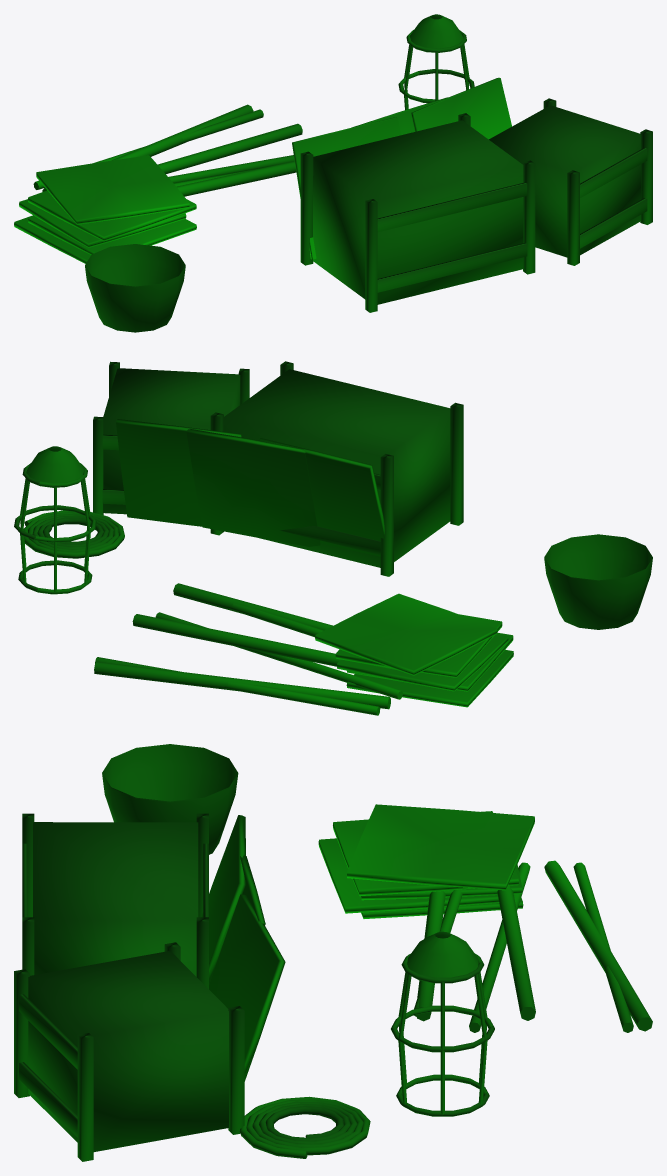
The model's file is salvage_heap.glb.
3 views of the same model, one above another, from view 1: azimuth 30°, elevation 25°; view 2: azimuth 150°, elevation 25°; view 3: azimuth 270°, elevation 25° (orthographic). The views are drawn at different scales.
Parts seen in each view (by area): view 1: salvage_heap; view 2: salvage_heap; view 3: salvage_heap.
Part boxes in pixels (x1,y1,x2,y2): salvage_heap: (14,14,652,332); salvage_heap: (14,361,652,715); salvage_heap: (14,744,652,1161).
Size of what is drawn, in the model's own units: 3.02 by 0.7 by 2.34.
